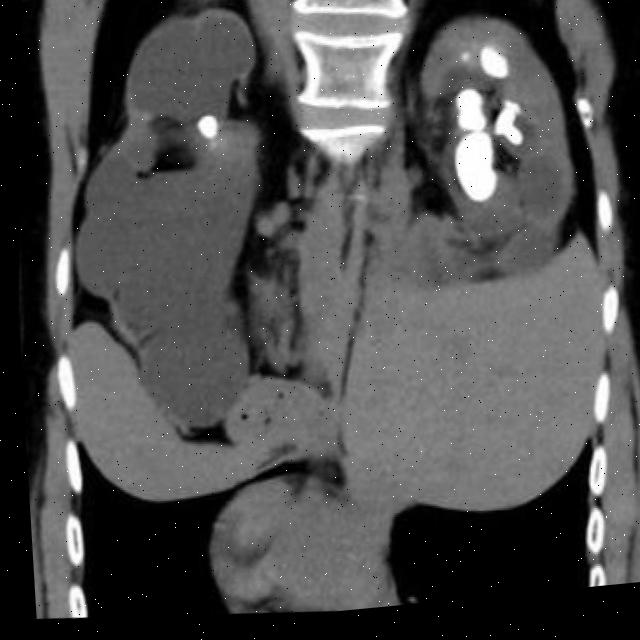Tas_Var: (446, 135, 498, 218), (450, 94, 488, 145), (470, 52, 514, 96), (488, 114, 524, 163), (190, 114, 223, 150), (500, 107, 522, 126), (454, 55, 473, 75)
